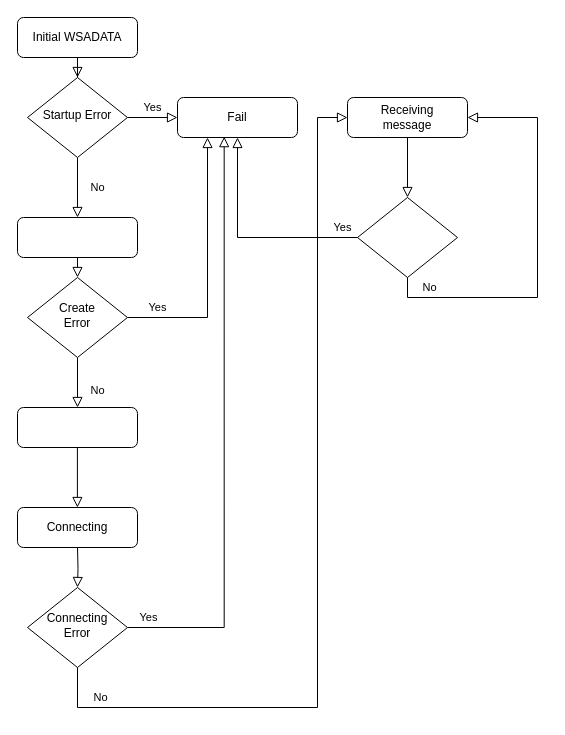
This 565x735 diagram has some shape labels left out. The shapes that lost their labels are listed below. From the top down, each one's box as (x1, y1, x2, y2) in pixels, then its label:
(16, 216, 138, 258): Create Socket
(356, 196, 458, 278): Receiving error
(16, 406, 138, 448): Setting name resolution
